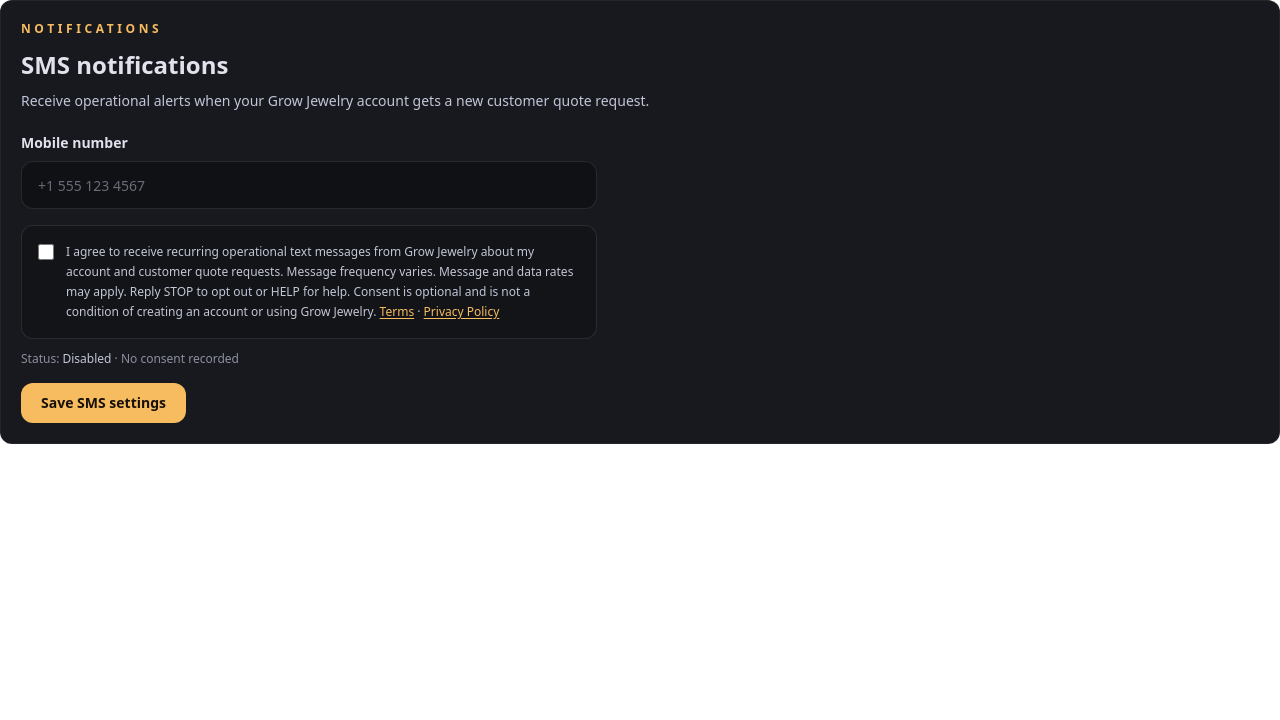
Test case: SmsNotificationSettingsForm › submits the selected phone number and consent
Type "+1 512 555 0100" into the field labelled "Mobile number" at (309, 185), box [21,161,597,209]
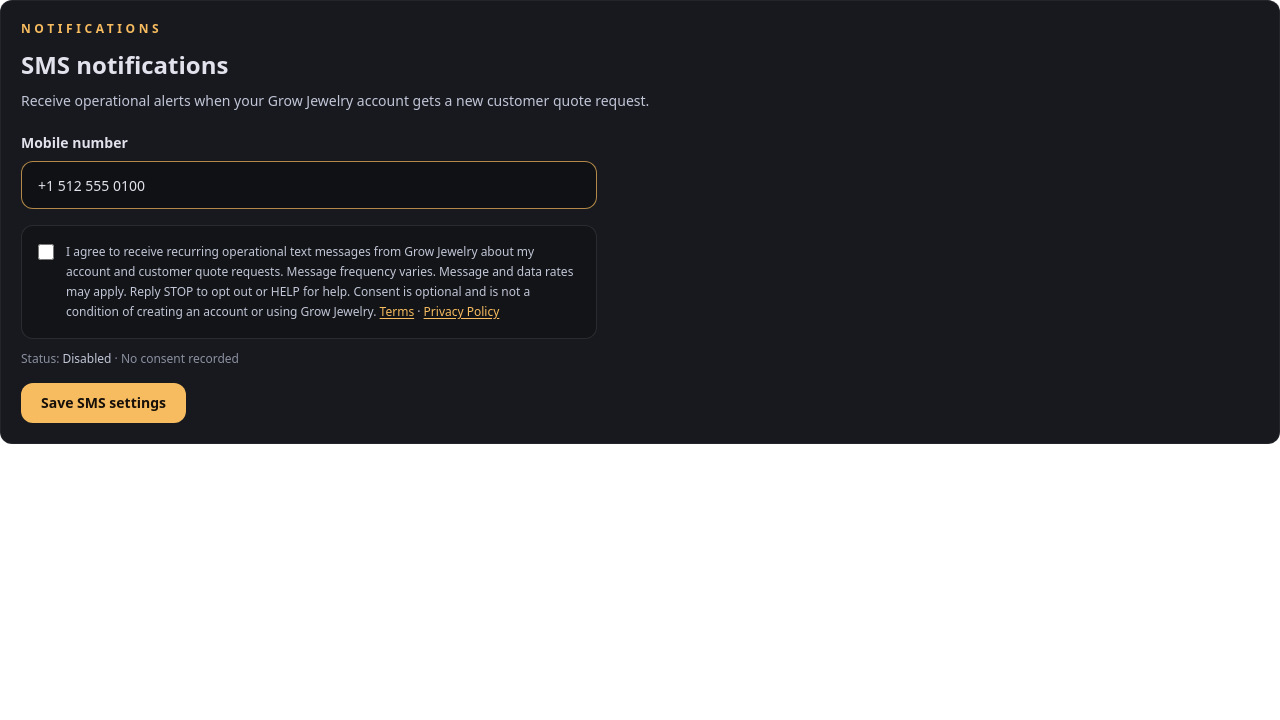
Click the checkbox at (46, 252), box [38,244,54,260]
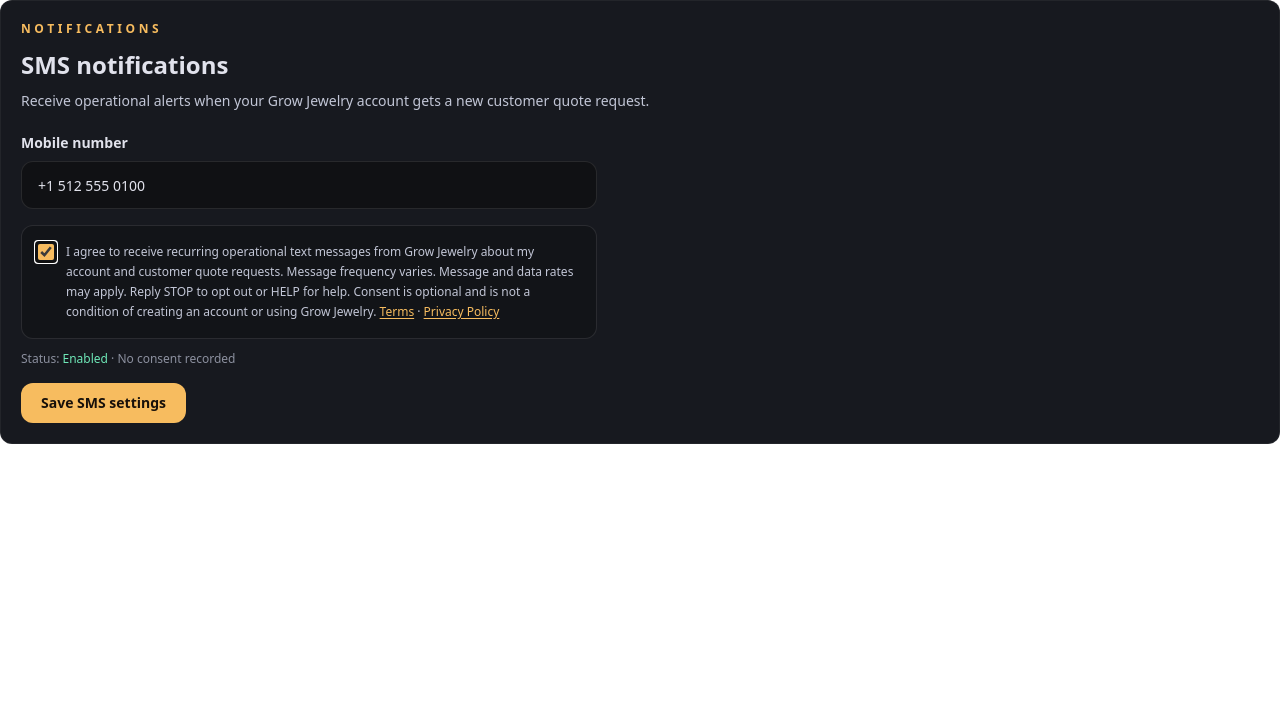
Click the button "Save SMS settings" at (104, 403), box [21,383,186,423]
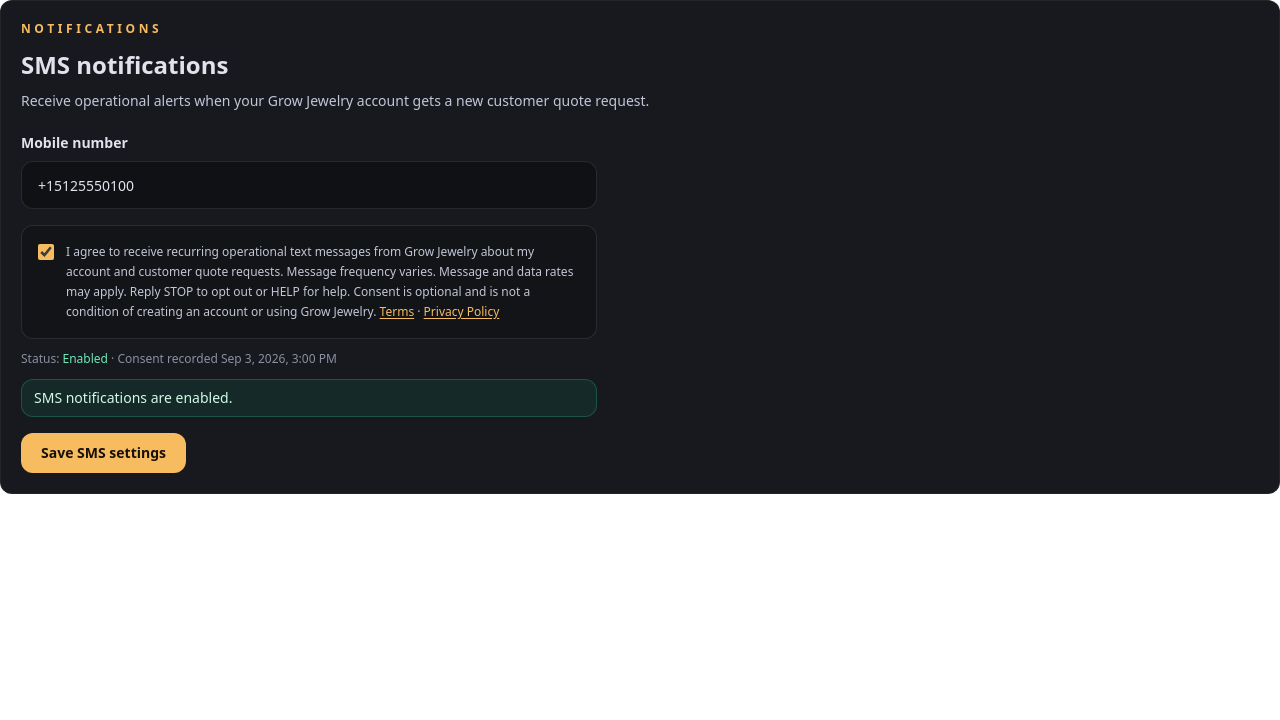
Expected: the text "SMS notifications are enabled." is shown, [21,379,597,417]
